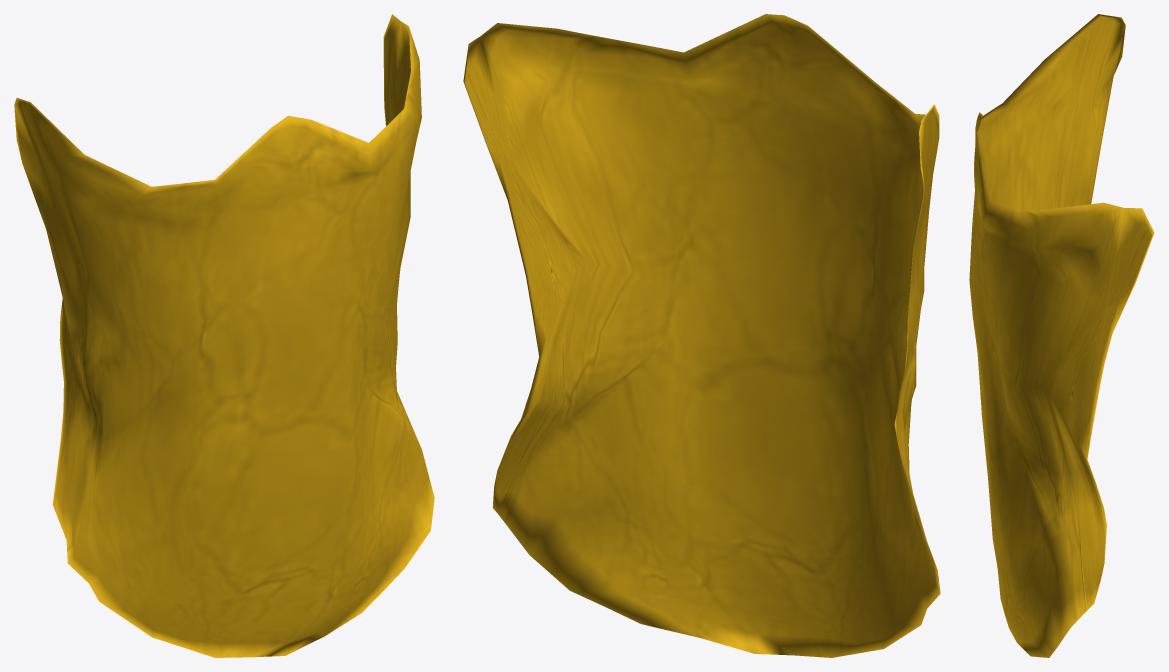
File: FemaleFatLayer.fbx
3 renders of one model, left to right at view 1: azimuth 30°, elevation 25°; view 2: azimuth 150°, elevation 25°; view 3: azimuth 270°, elevation 25°, orthographic. The views are drawn at different scales.
Visible parts, largest first — view 1: FemaleFattyLayer; view 2: FemaleFattyLayer; view 3: FemaleFattyLayer.
Boxes of the visible parts, left/top/right/bottom form: FemaleFattyLayer: left=14, top=14, right=434, bottom=657; FemaleFattyLayer: left=463, top=14, right=940, bottom=657; FemaleFattyLayer: left=969, top=14, right=1154, bottom=657.
Bounding box in the file's own units: 22.04 × 30.57 × 9.82.
Materials: 1 (1 with a texture image).
